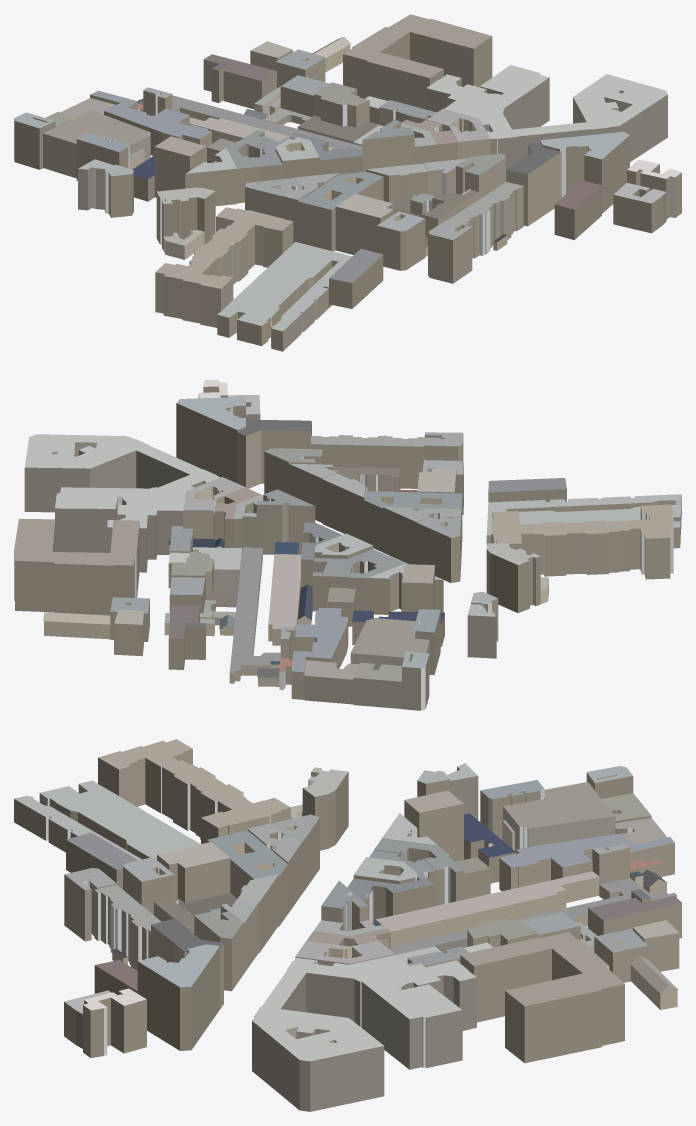
3 renders of one model, top to bottom at view 1: azimuth 30°, elevation 25°; view 2: azimuth 150°, elevation 25°; view 3: azimuth 270°, elevation 25°, orthographic. The views are drawn at different scales.
Visible parts, largest first — view 1: tuile; view 2: tuile; view 3: tuile.
Boxes of the visible parts, x1,y1,x2,y2 form: tuile: (14,14,681,351); tuile: (14,380,681,710); tuile: (14,739,681,1111).
Bounding box in the file's own units: 336 × 35.57 × 293.
